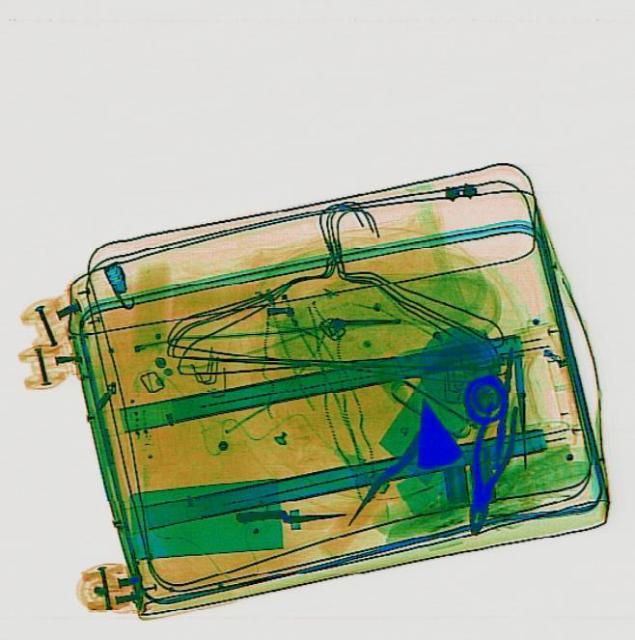Pliers: (455, 398, 520, 536)
